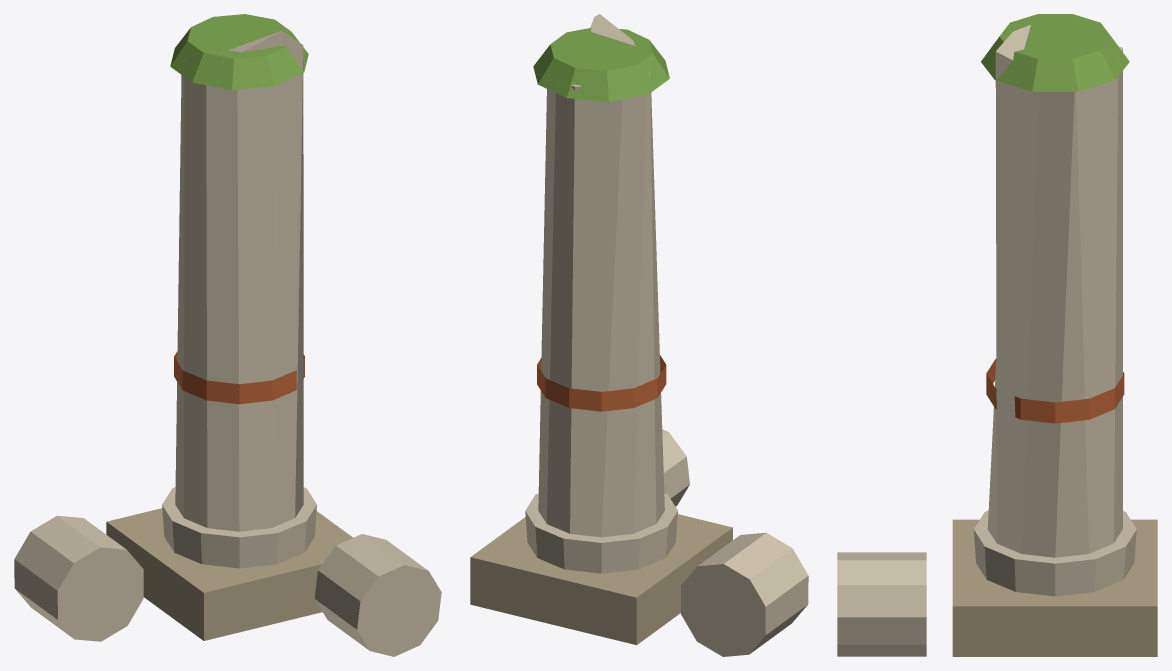
The model's file is ruin_column.glb.
The picture shows the model from 3 angles, left to right: view 1: azimuth 30°, elevation 25°; view 2: azimuth 150°, elevation 25°; view 3: azimuth 270°, elevation 25°; orthographic projection. The views are drawn at different scales.
Visible parts, largest first — view 1: ruin_column; view 2: ruin_column; view 3: ruin_column.
Boxes of the visible parts, <box> form: ruin_column: <box>14,14,441,656</box>; ruin_column: <box>470,14,808,656</box>; ruin_column: <box>837,14,1157,656</box>.
Bounding box in the file's own units: 7.68 × 14.29 × 6.88.
